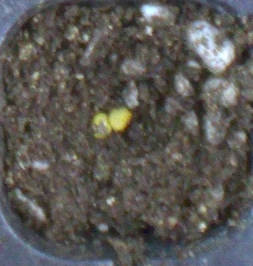pepper seed: (41, 38, 174, 172), (31, 41, 145, 180)
